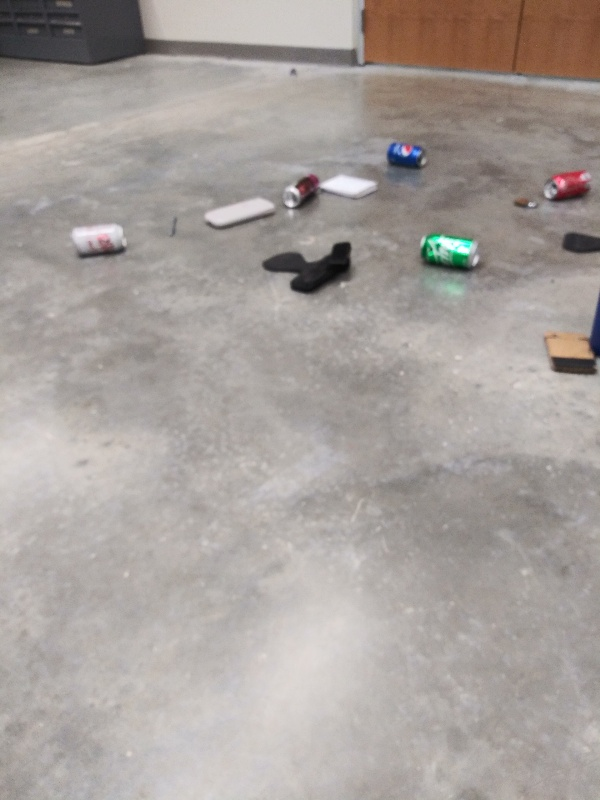can: (415, 228, 486, 275), (64, 221, 132, 260), (541, 165, 597, 204), (279, 170, 326, 213), (383, 140, 431, 172)
